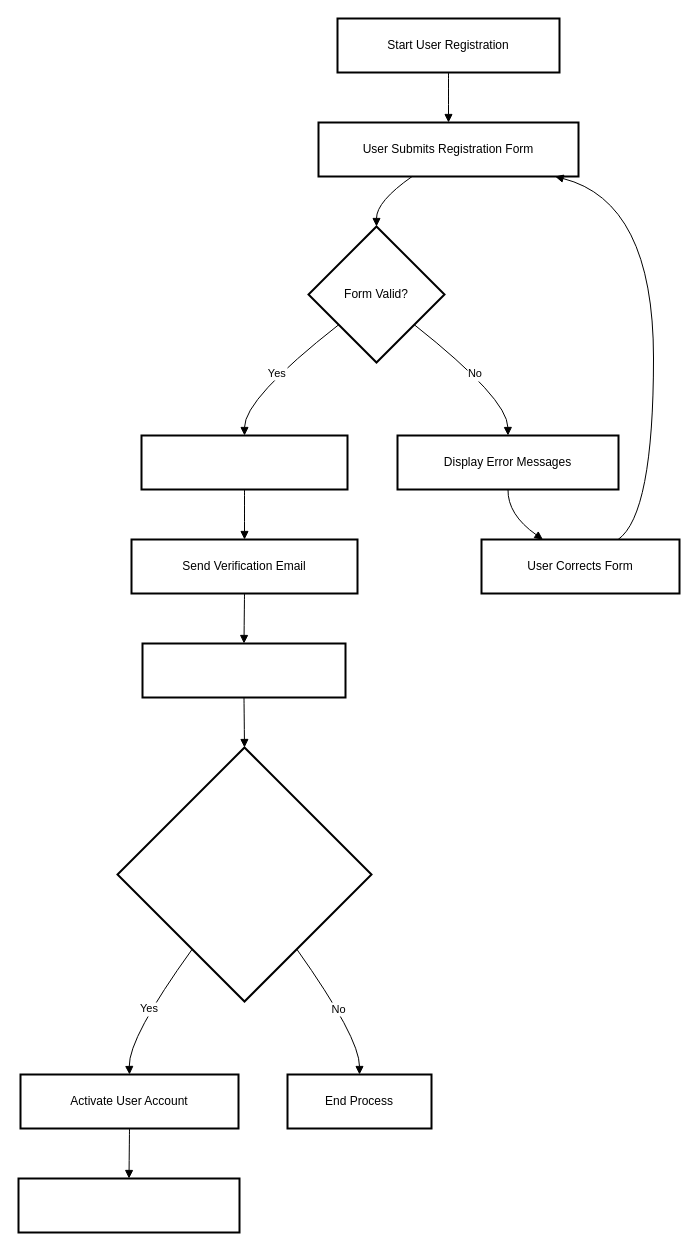
Image size: 697x1250. Some labels were removed from this diagram. Here are the shapes that lost their labels. From the top down, the centre of each, then its label:
At pixel 244 462: "Create User Account".
At pixel 243 670: "User Receives Email".
At pixel 244 874: "User Clicks Verification Link?".
At pixel 128 1205: "Redirect to Login Page".
